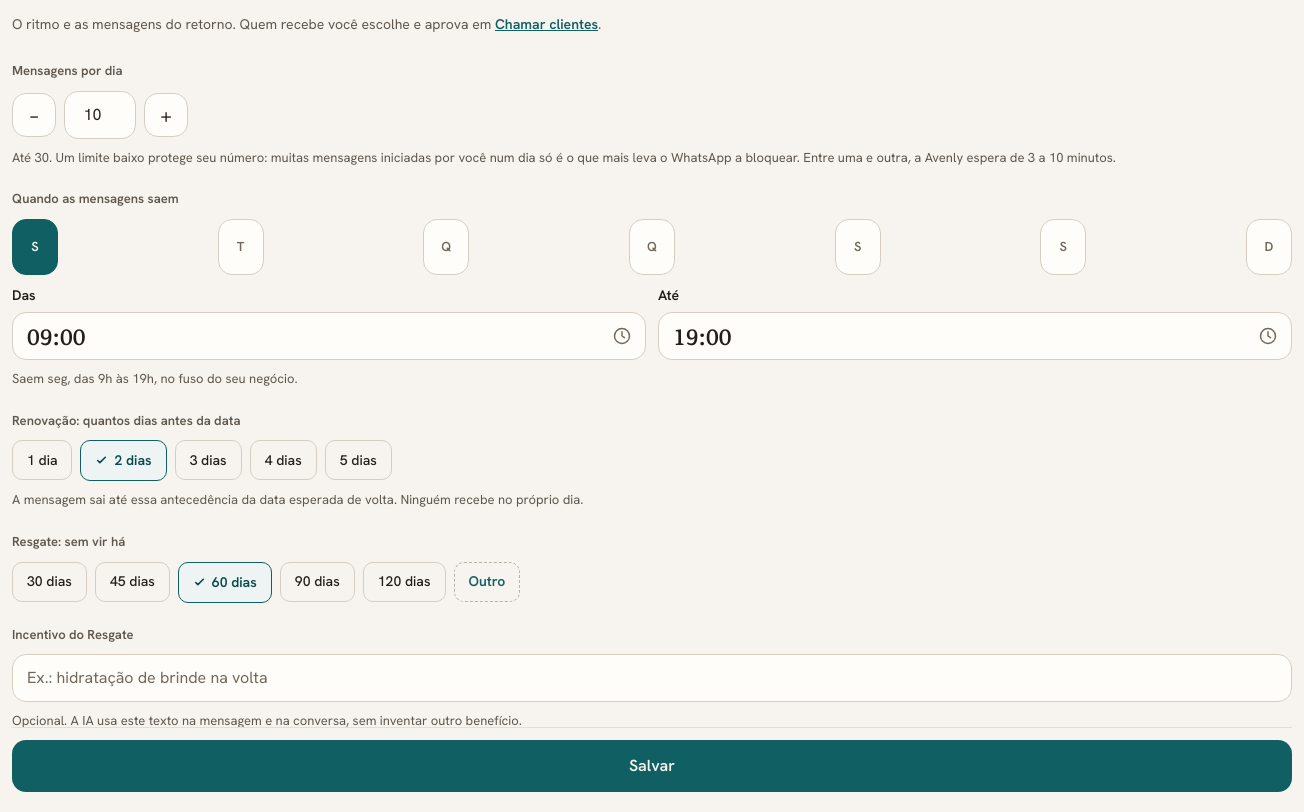
Scenario: Retorno › Configurações › sem dia de envio, não salva e diz o porquê
Expected: the number field labelled "Mensagens por dia" is shown, [64,90,136,138]
Click the checkbox named "segunda" at (35, 247), box [12,219,58,275]
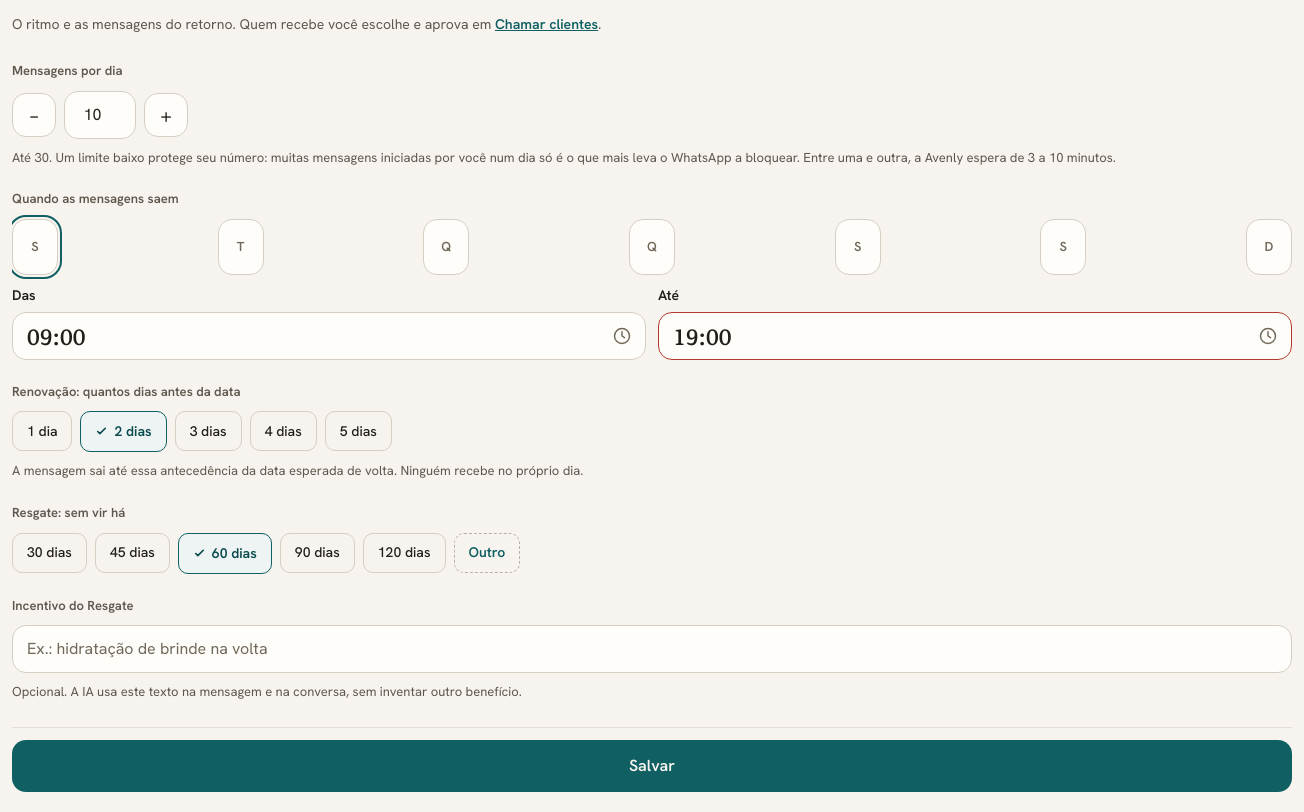
Click the button "Salvar" at (652, 766), box [12,740,1292,792]
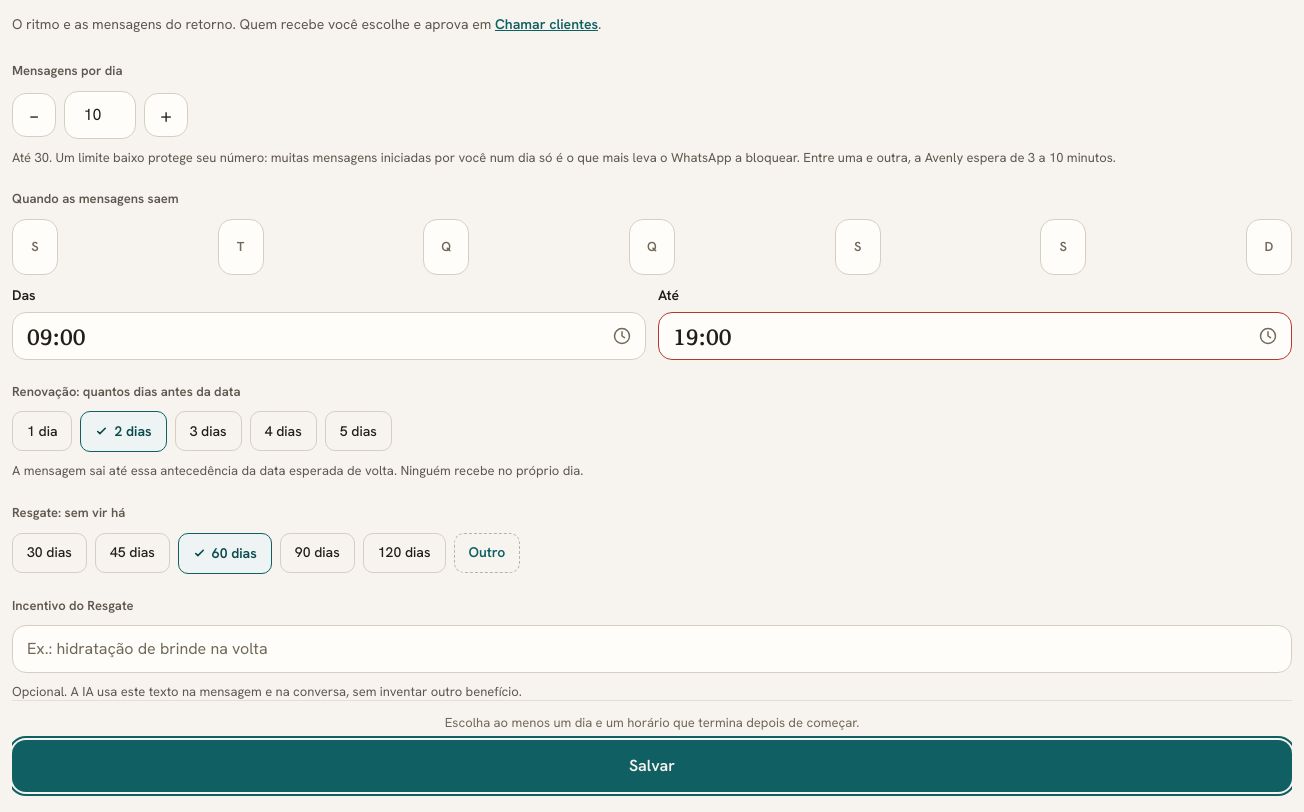
Now the text "Escolha ao menos um dia e um horário que termina depois de começar." is shown, box [445,714,859,730]
